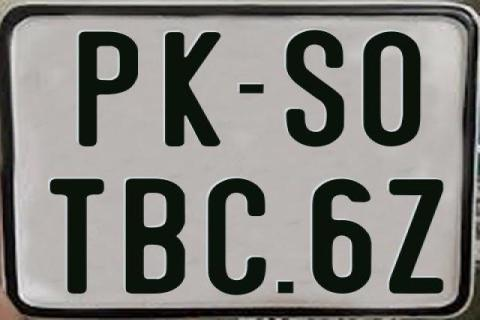0: (311, 177, 375, 295), (360, 31, 422, 146)
B: (124, 177, 185, 297)
C: (208, 176, 266, 297)
K: (165, 32, 221, 147)
P: (80, 31, 142, 150)
S: (285, 28, 349, 148)
T: (50, 177, 107, 293)
Z: (387, 177, 445, 297)
